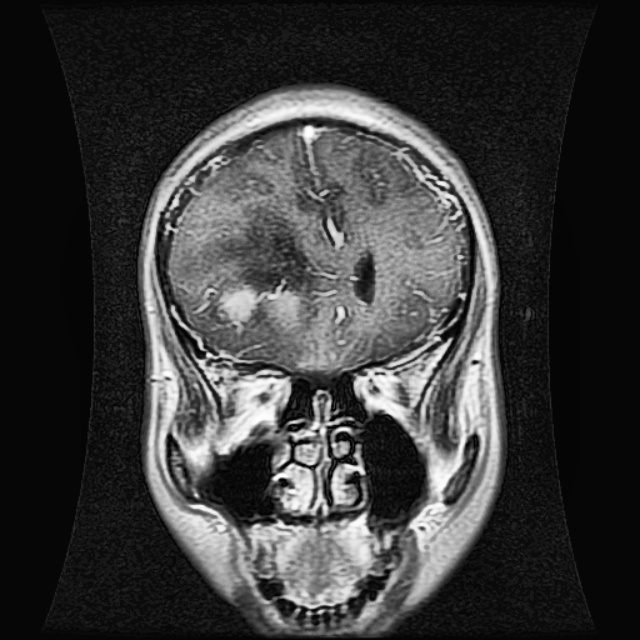Meningioma: (198, 270, 319, 340)
